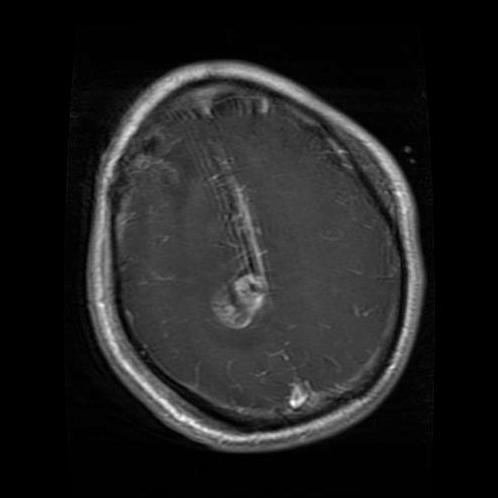Tumour-Glioma: (120, 113, 178, 213)
